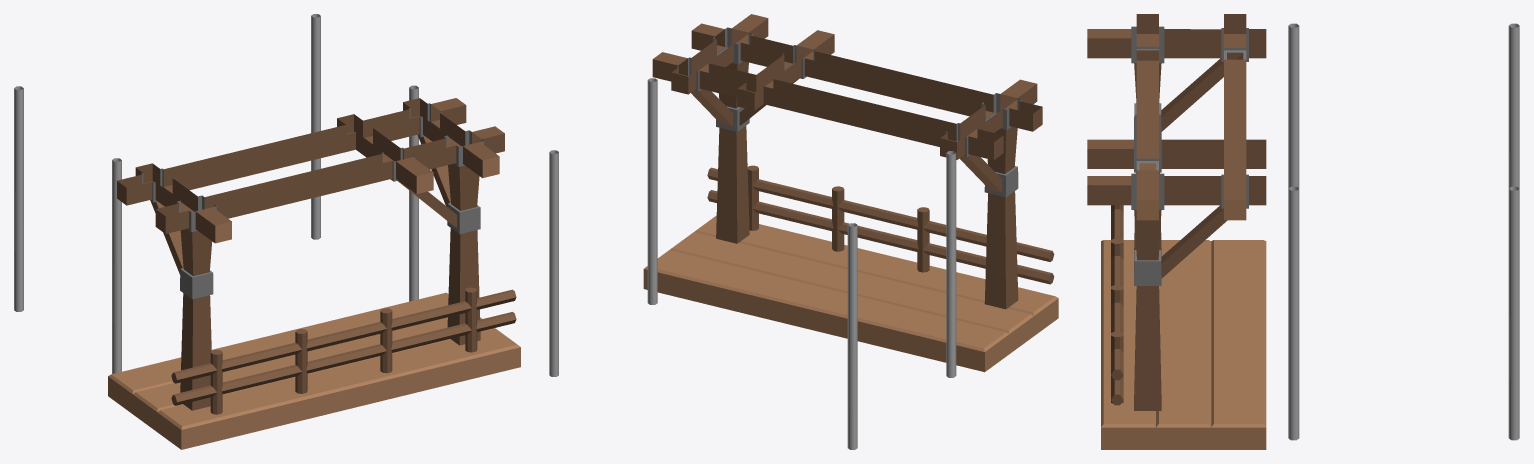
Rendered from BasicElevator_Straight_UpDown.fbx.
The picture shows the model from 3 angles, left to right: view 1: azimuth 30°, elevation 25°; view 2: azimuth 150°, elevation 25°; view 3: azimuth 270°, elevation 25°; orthographic projection. The views are drawn at different scales.
Visible parts, largest first — view 1: BasicElevator_Straight_UpDown; view 2: BasicElevator_Straight_UpDown; view 3: BasicElevator_Straight_UpDown.
Part boxes in pixels (x1,y1,x2,y2): BasicElevator_Straight_UpDown: (14, 14, 520, 449); BasicElevator_Straight_UpDown: (549, 14, 1058, 449); BasicElevator_Straight_UpDown: (1087, 14, 1519, 449).
Bounding box in the file's own units: 800 × 500 × 785.
